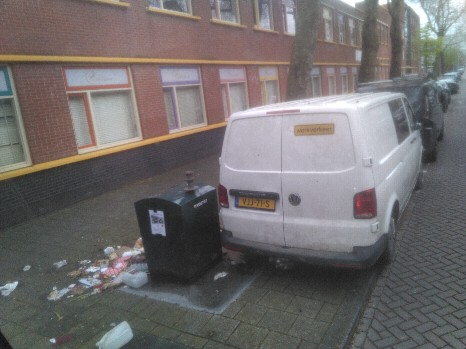Container: (138, 181, 219, 277)
Plastic: (101, 321, 132, 349), (121, 270, 147, 292)
Voertuig: (222, 94, 427, 275), (349, 73, 462, 134)
